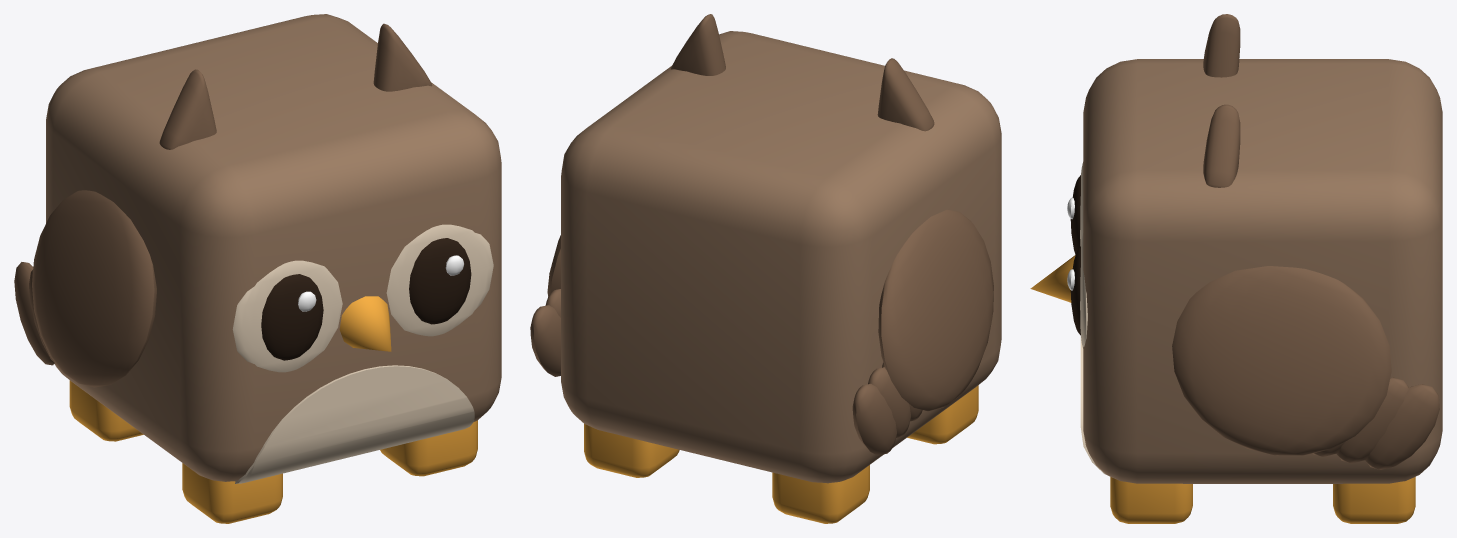
Rendered from Owl.glb.
The picture shows the model from 3 angles, left to right: view 1: azimuth 30°, elevation 25°; view 2: azimuth 150°, elevation 25°; view 3: azimuth 270°, elevation 25°; orthographic projection. The views are drawn at different scales.
Parts seen in each view (by area): view 1: Owl; view 2: Owl; view 3: Owl.
Boxes of the visible parts, <box> form: Owl: <box>14,14,501,523</box>; Owl: <box>530,14,1001,523</box>; Owl: <box>1030,14,1442,523</box>.
Size of the model in its own units: 2.49 by 2.49 by 2.3.
Materials: 1 (1 with a texture image).
